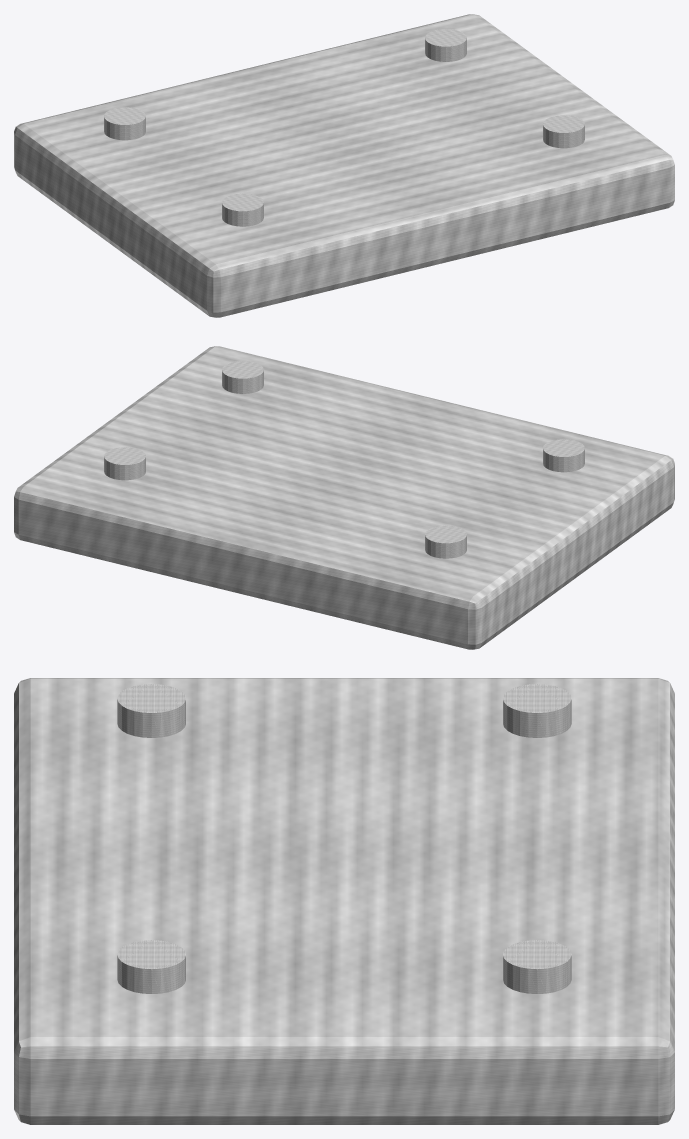
Rendered from item-alclad-aluminum-sheet_variant_a.glb.
The picture shows the model from 3 angles, top to bottom: view 1: azimuth 30°, elevation 25°; view 2: azimuth 150°, elevation 25°; view 3: azimuth 270°, elevation 25°; orthographic projection. The views are drawn at different scales.
Visible parts, largest first — view 1: Flat material sheet, Sheet fastener, Sheet fastener.002, Sheet fastener.001, Sheet fastener.003; view 2: Flat material sheet, Sheet fastener.001, Sheet fastener.003, Sheet fastener, Sheet fastener.002; view 3: Flat material sheet, Sheet fastener, Sheet fastener.001, Sheet fastener.002, Sheet fastener.003.
Part boxes in pixels (x1,y1,x2,y2): Flat material sheet: (14,14,674,317); Sheet fastener: (222,193,263,226); Sheet fastener.002: (543,115,584,148); Sheet fastener.001: (104,107,145,140); Sheet fastener.003: (425,29,466,61); Flat material sheet: (14,346,674,649); Sheet fastener.001: (425,525,466,558); Sheet fastener.003: (104,447,145,480); Sheet fastener: (543,439,584,472); Sheet fastener.002: (222,361,263,393); Flat material sheet: (14,678,674,1124); Sheet fastener: (117,684,185,737); Sheet fastener.001: (503,684,571,737); Sheet fastener.002: (117,940,185,993); Sheet fastener.003: (503,940,571,993).
Size of what is drawn, in the model's own units: 0.64 by 0.095 by 0.48.
Materials: 2 (2 with a texture image).
